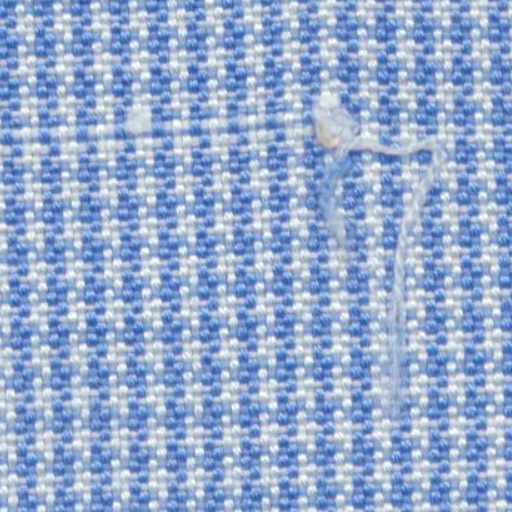DuanSha: (292, 78, 464, 411)
